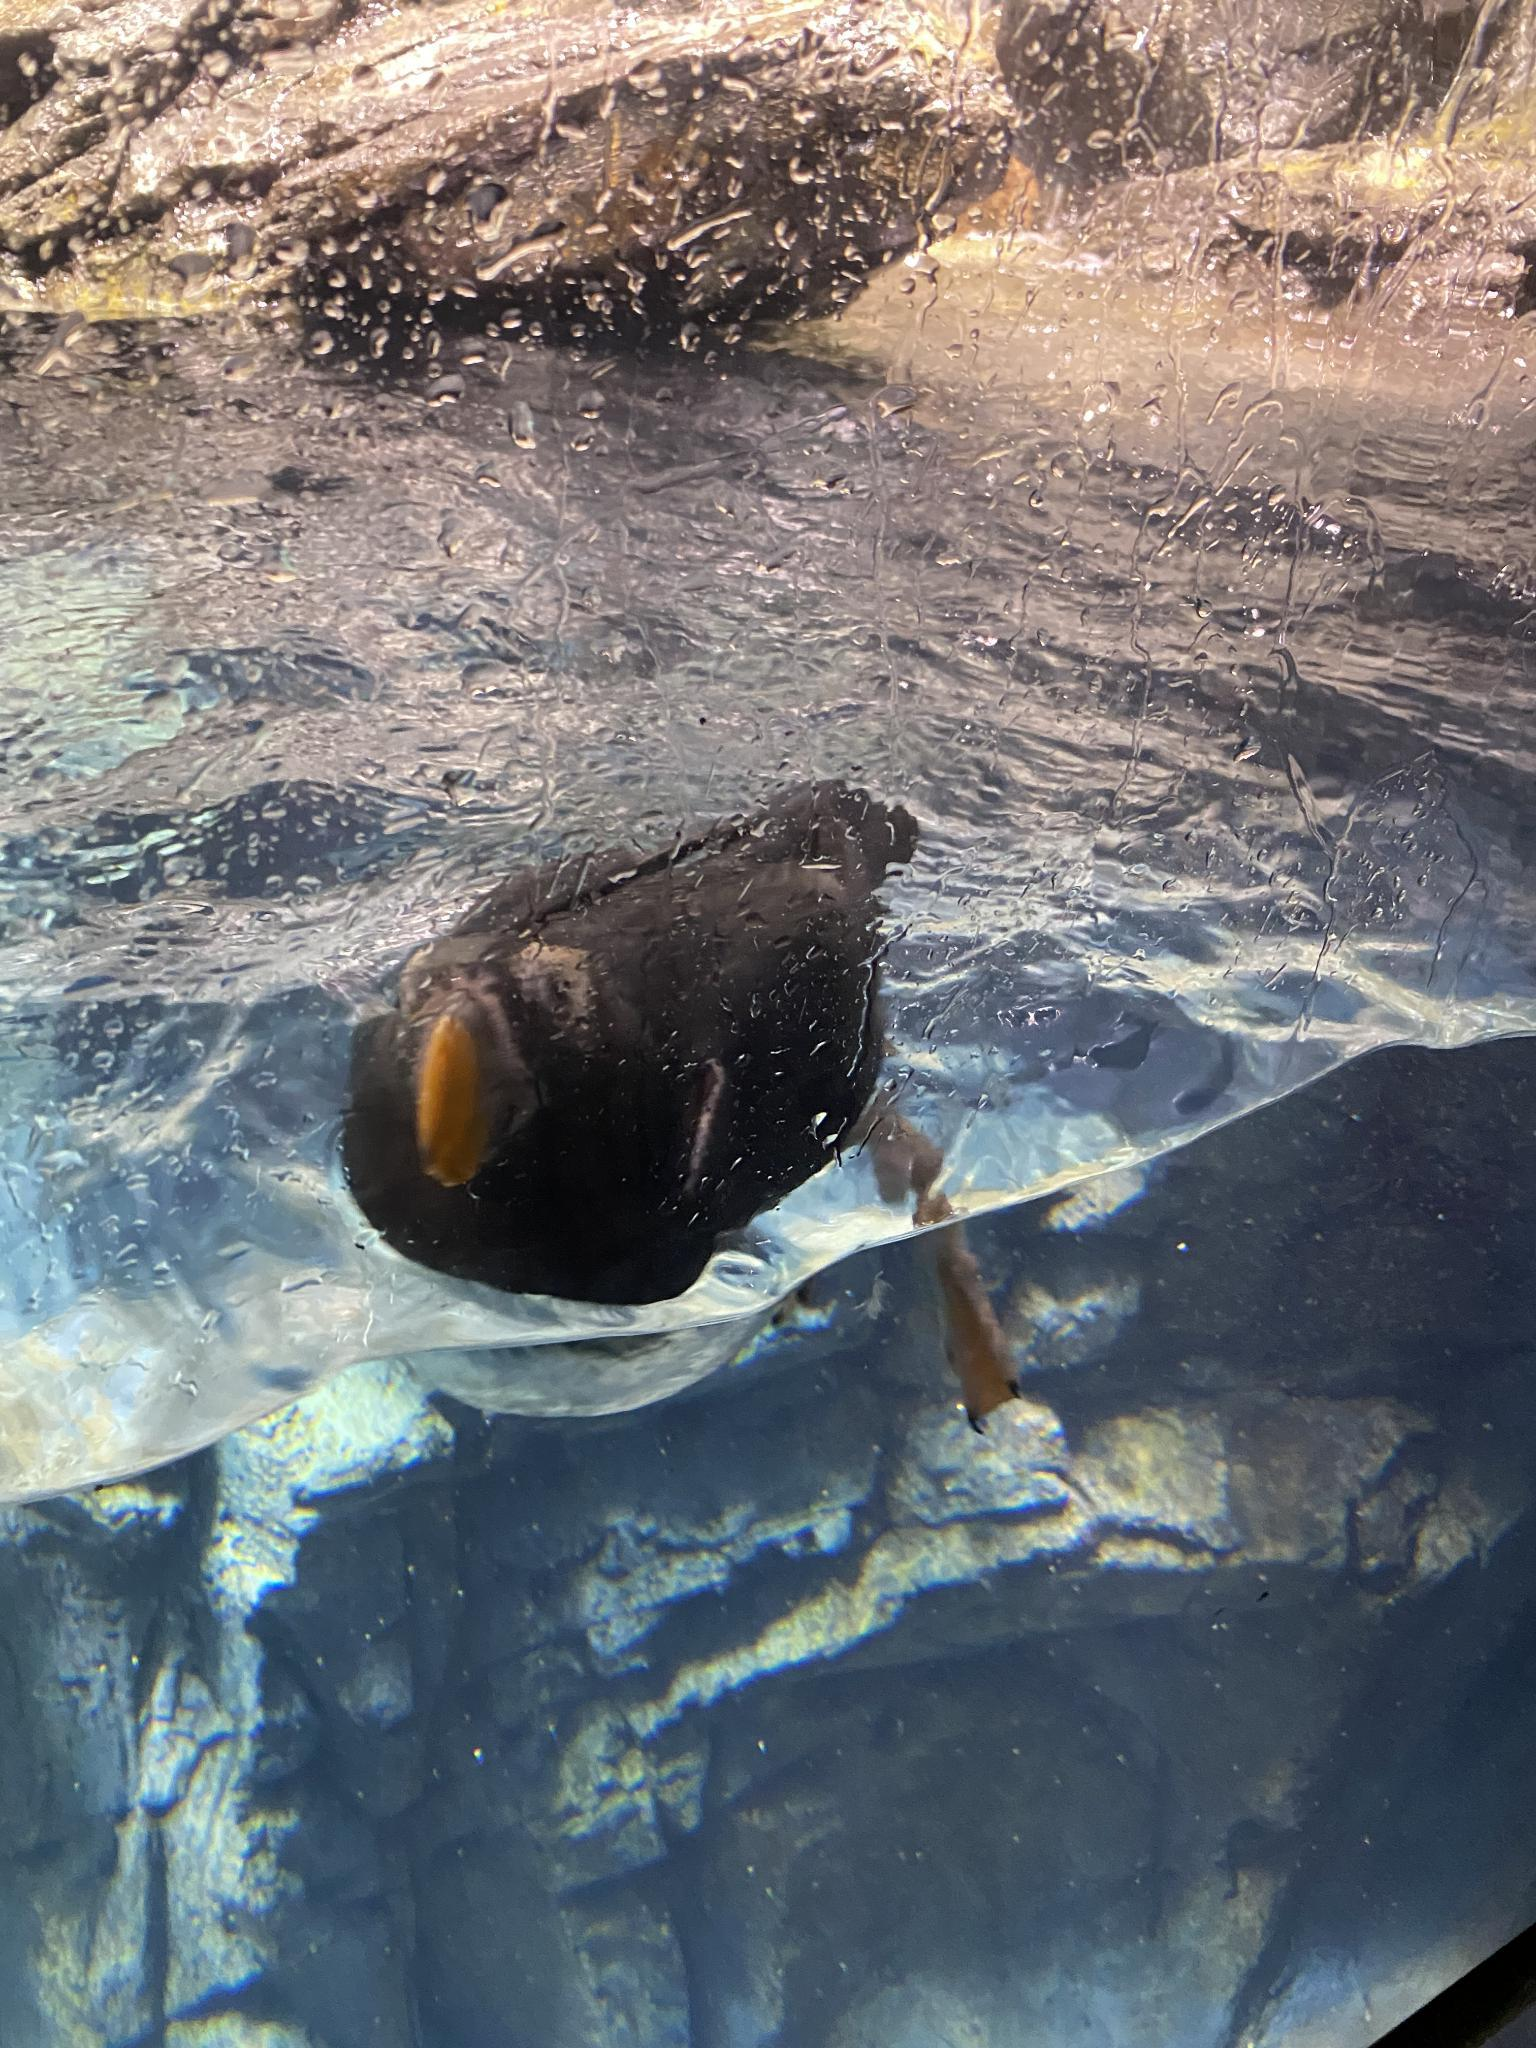puffin: (345, 784, 1016, 1435)
